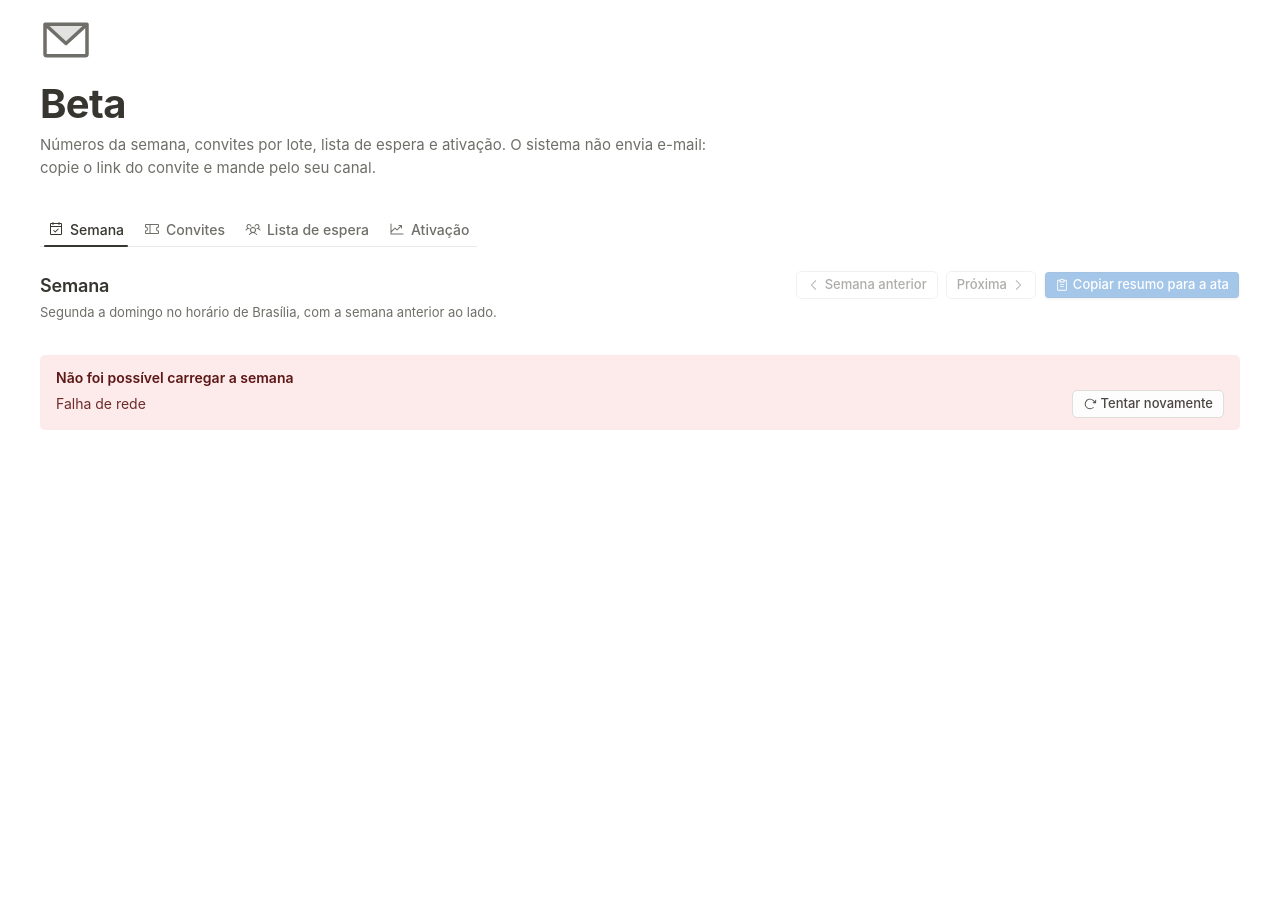
Test case: Console admin — semana do beta (CC-705) › offers a retry when the week fails to load
expect the text "Não foi possível carregar a semana" is shown: met, box [56,368,294,386]
Click the button named "Tentar novamente" in the row of "Falha de rede": (1148, 404) [1072,390,1224,418]
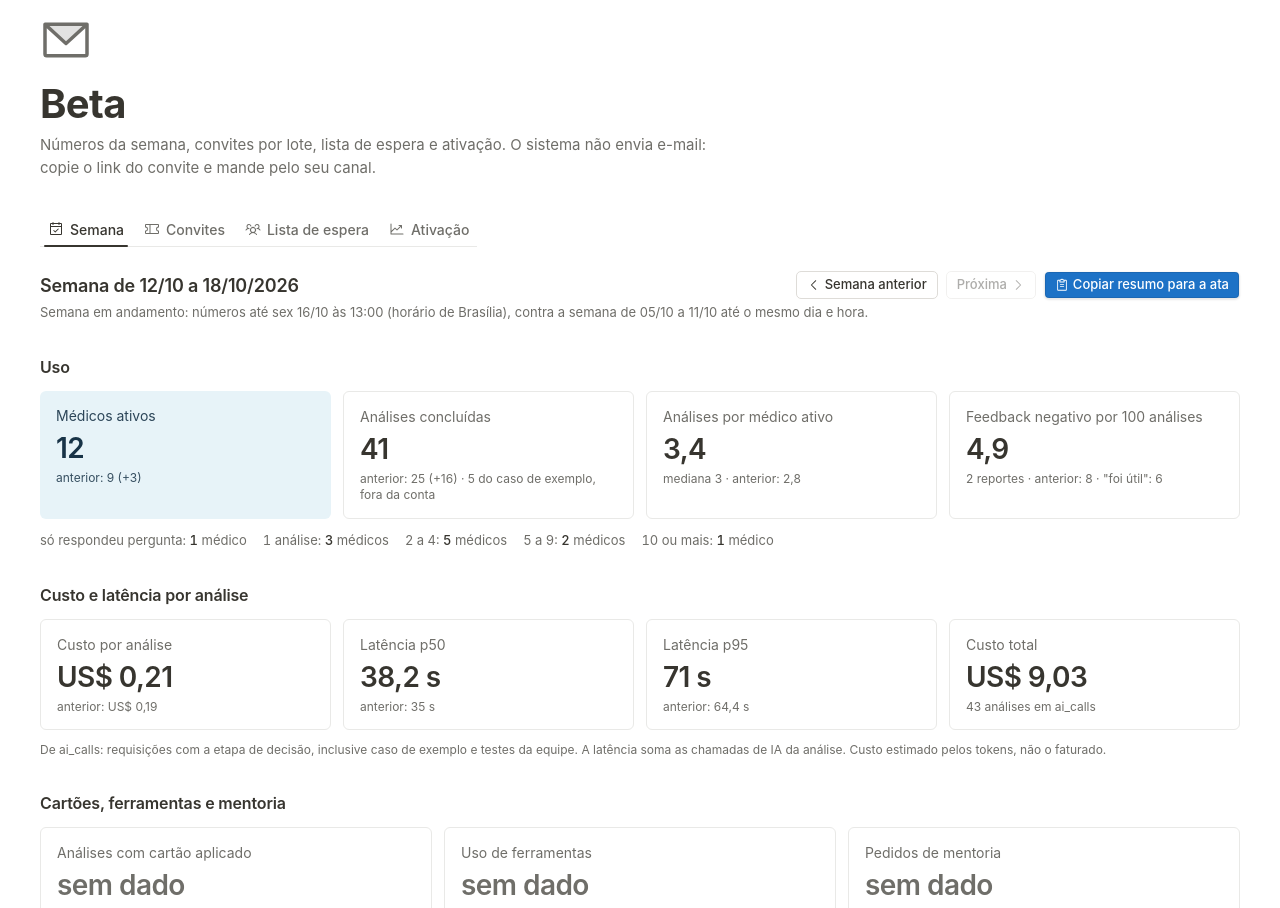
expect the heading "Semana de 12/10 a 18/10/2026" is shown: met, box [40,272,299,298]
